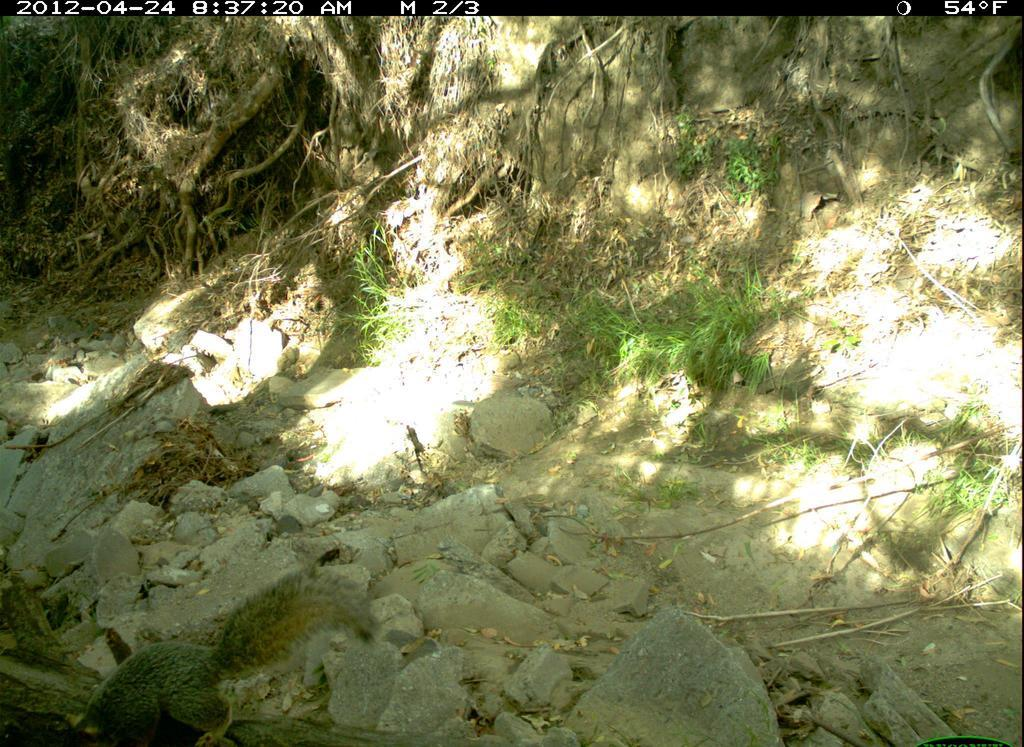squirrel: (49, 561, 378, 747)
